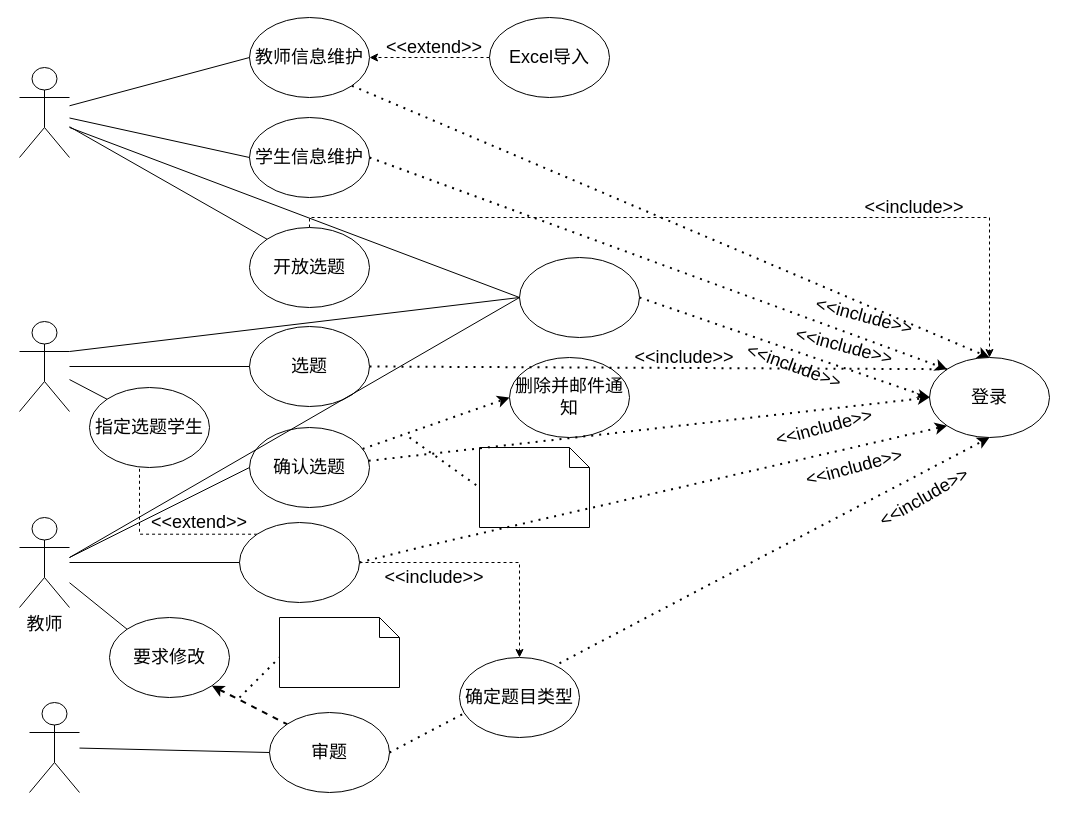
Some shapes in this 1067 by 839 pixel diagram are drawn without their labels. Each missing label, with the centre of its shape:
"Condition: 审查选题不合格" goes at pixel 534 487.
"Condition: 题目不合格" goes at pixel 339 652.
"修改密码" goes at pixel 579 297.
"出题" goes at pixel 299 562.
"学生" goes at pixel 44 366.
"教务员" goes at pixel 44 112.
"系主任" goes at pixel 54 747.
